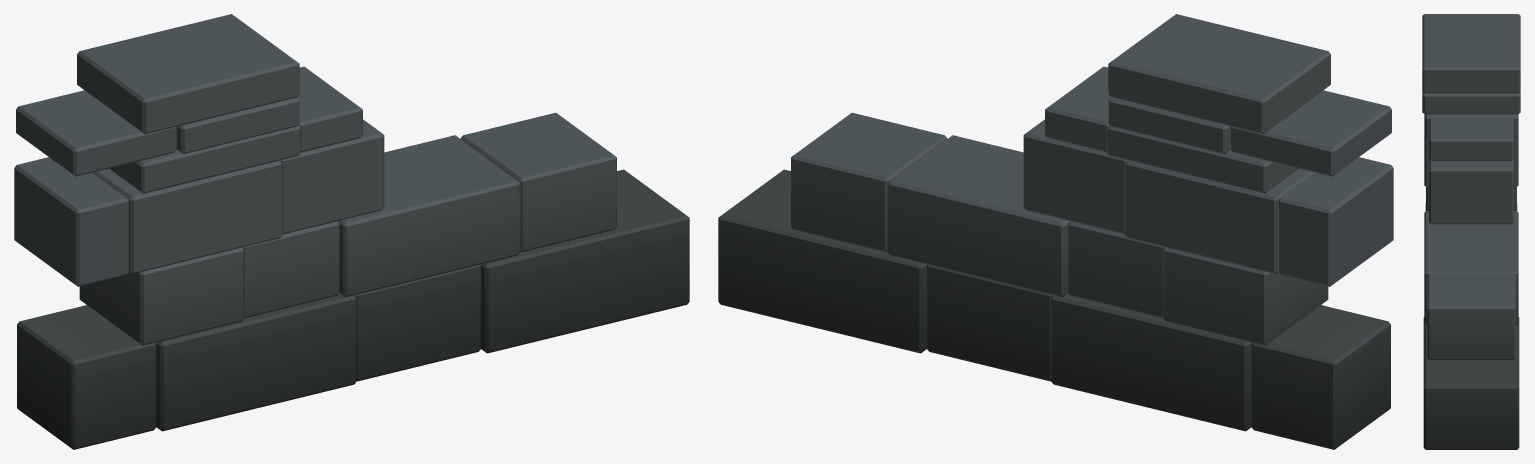
File: WallCapa1.glb
The picture shows the model from 3 angles, left to right: view 1: azimuth 30°, elevation 25°; view 2: azimuth 150°, elevation 25°; view 3: azimuth 270°, elevation 25°; orthographic projection. The views are drawn at different scales.
Visible parts, largest first — view 1: WallCapa1.col; view 2: WallCapa1.col; view 3: WallCapa1.col.
Part boxes in pixels (x1,y1,x2,y2): WallCapa1.col: [14, 14, 689, 449]; WallCapa1.col: [718, 14, 1393, 449]; WallCapa1.col: [1422, 14, 1520, 449].
Size of the model in its own units: 2.5 by 1.32 by 0.4798.
Materials: 1 (1 with a texture image).
